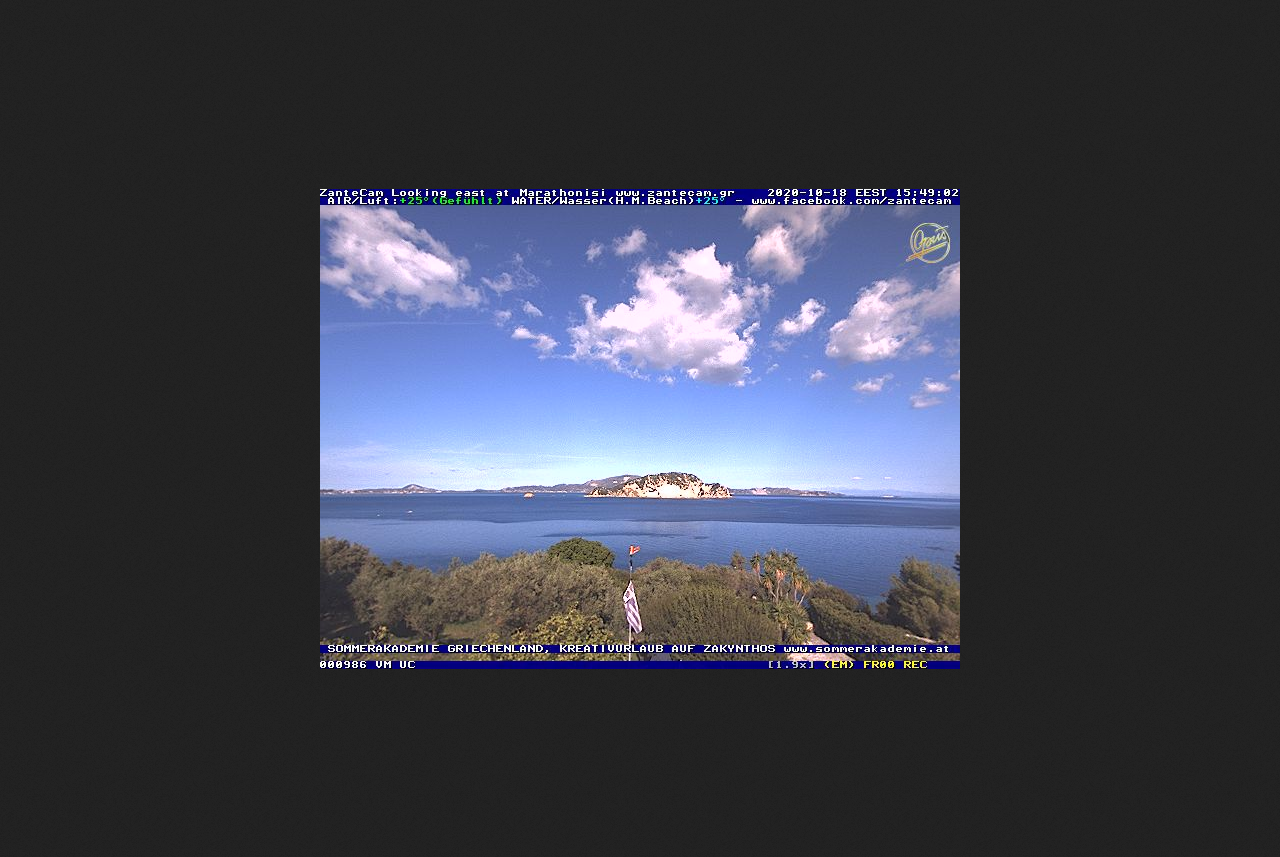maybe: (621, 579, 648, 638)
